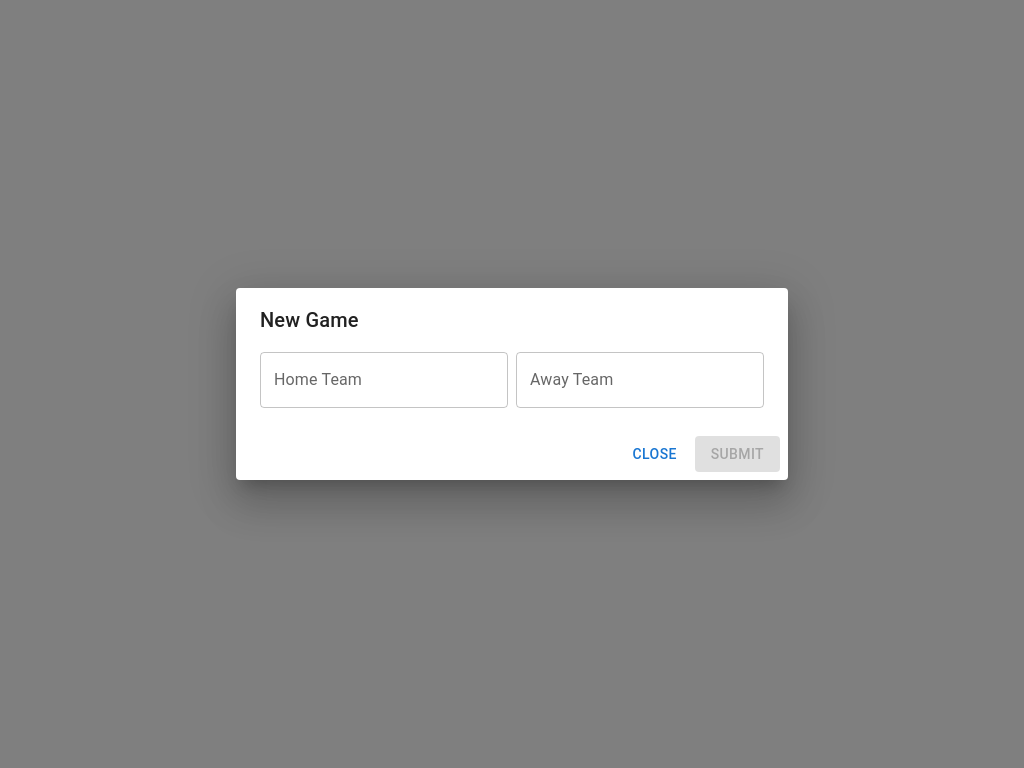
Test: <NewGamePopup /> › submit button should be enabled when fields are filled
The width and height of the screenshot is (1024, 768).
expect the button with test id "popup-submit" is disabled: met, box [695,436,780,473]
In the element with test id "game-popup-home-team": (384, 380) [260,352,508,408], type "Mexico"
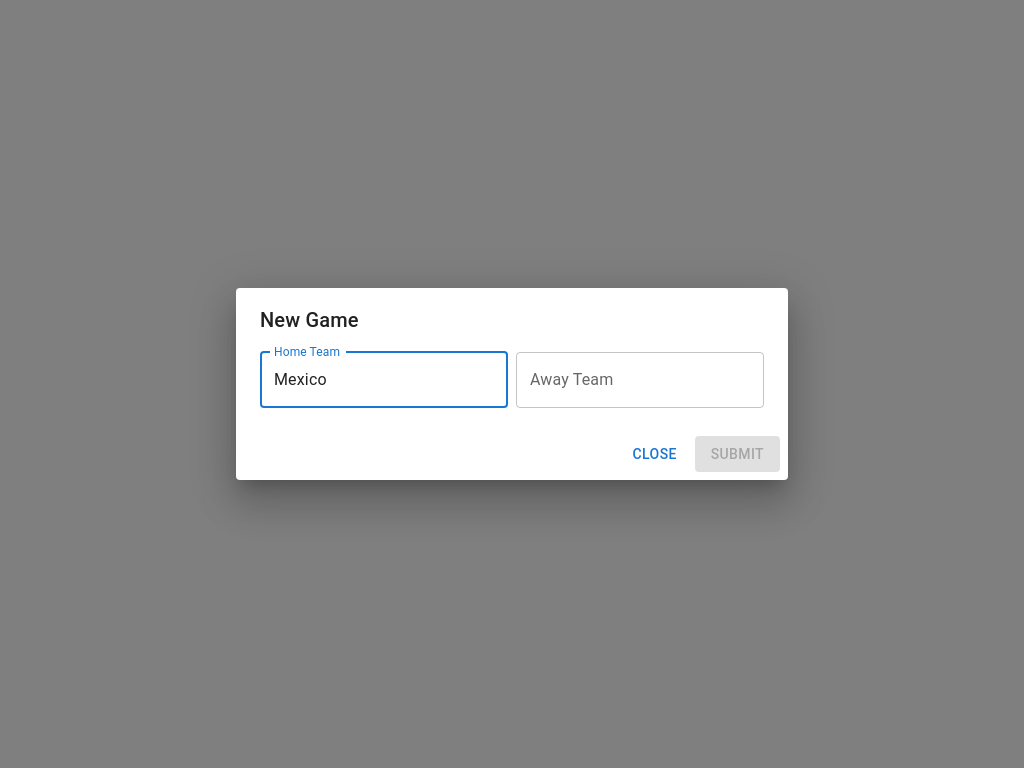
In the element with test id "game-popup-away-team": (640, 380) [516,352,764,408], type "Canada"
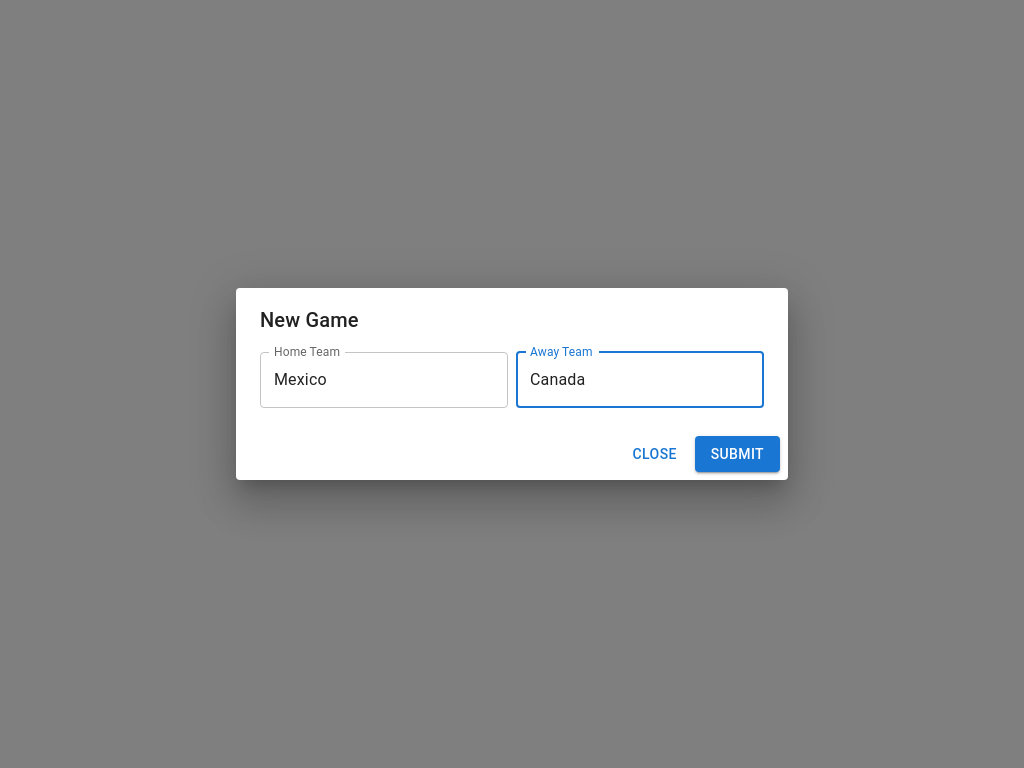
expect the button with test id "popup-submit" is enabled: met, box [695,436,780,473]
